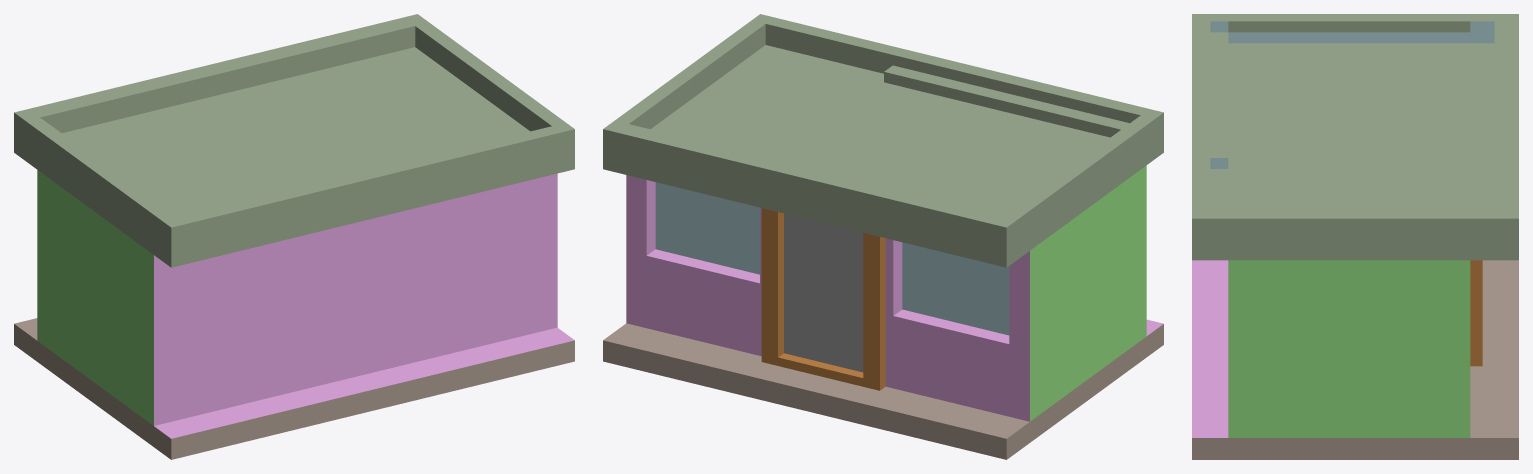
Rendered from shop a.fbx.
3 views of the same model, side by side, from view 1: azimuth 30°, elevation 25°; view 2: azimuth 150°, elevation 25°; view 3: azimuth 270°, elevation 25° (orthographic). The views are drawn at different scales.
Parts seen in each view (by area): view 1: shop A; view 2: shop A; view 3: shop A.
Part boxes in pixels (x1,y1,x2,y2): shop A: (14, 14, 574, 459); shop A: (603, 14, 1163, 459); shop A: (1192, 14, 1518, 459).
Bounding box in the file's own units: 400 × 220 × 270.
